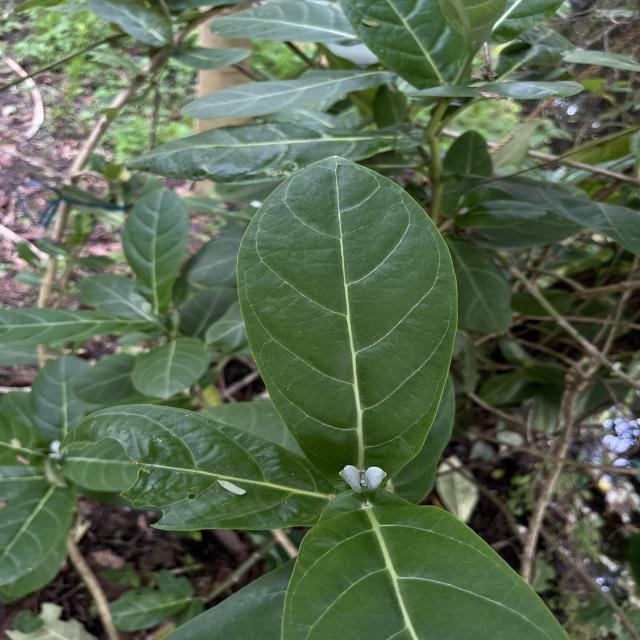Calotropis gigantea: (232, 152, 462, 494), (121, 187, 191, 288), (130, 336, 213, 402)
